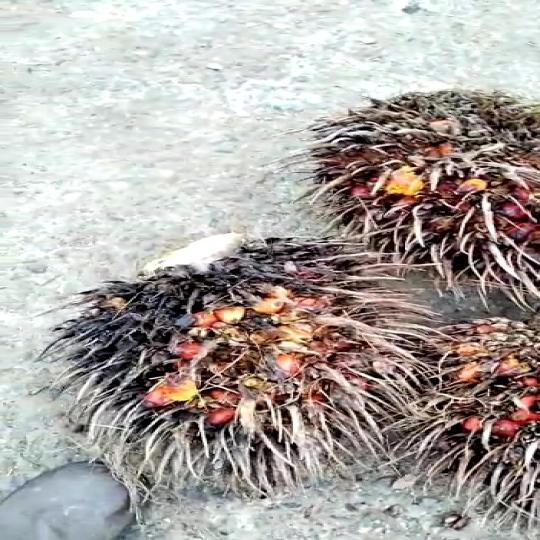terlalu masak: (42, 252, 454, 486), (311, 91, 540, 290)
